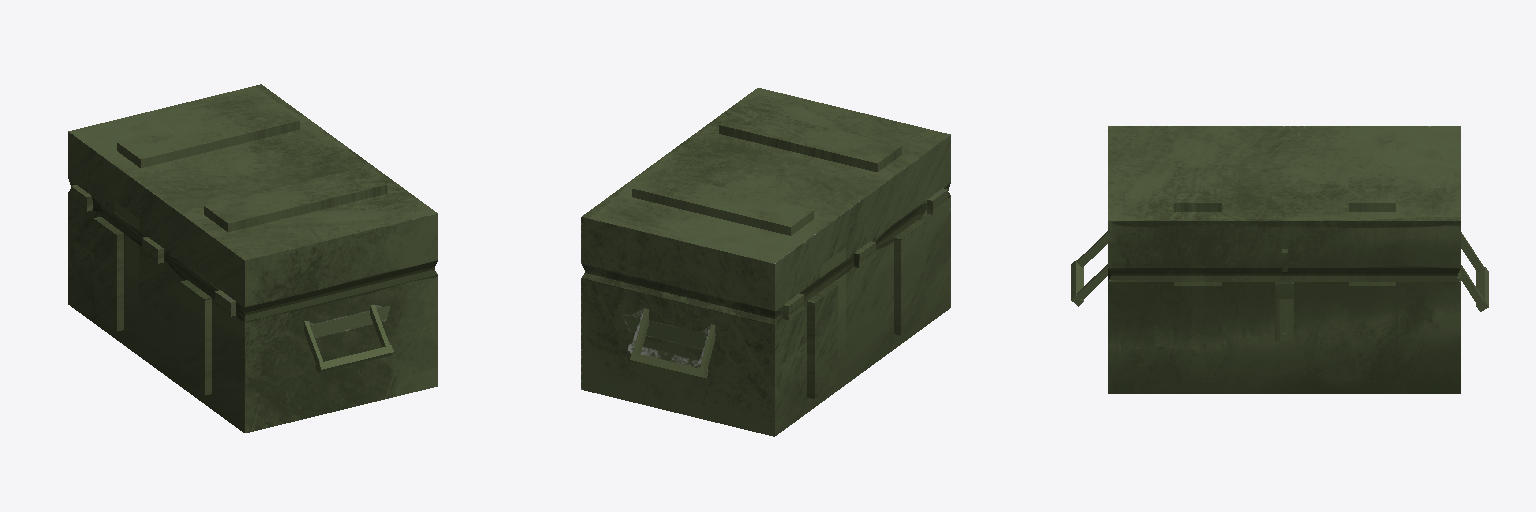
3 views of the same model, side by side, from view 1: azimuth 30°, elevation 25°; view 2: azimuth 150°, elevation 25°; view 3: azimuth 270°, elevation 25° (orthographic).
Parts seen in each view (by area): view 1: Cube_Cube.028_None, Handle2.002_Cube.029_Material.001; view 2: Cube_Cube.028_None, Handle1.002_Cube.031_Material.001; view 3: Cube_Cube.028_None, Handle2.002_Cube.029_Material.001, Handle1.002_Cube.031_Material.001.
Part boxes in pixels (bbox=[...]): Cube_Cube.028_None: bbox=[68, 84, 437, 432]; Handle2.002_Cube.029_Material.001: bbox=[304, 305, 393, 372]; Cube_Cube.028_None: bbox=[581, 88, 950, 436]; Handle1.002_Cube.031_Material.001: bbox=[630, 309, 714, 378]; Cube_Cube.028_None: bbox=[1108, 126, 1460, 393]; Handle2.002_Cube.029_Material.001: bbox=[1071, 231, 1107, 306]; Handle1.002_Cube.031_Material.001: bbox=[1461, 232, 1488, 311].
Bounding box in the file's own units: 0.5337 × 0.4439 × 0.9242.
2 materials, 2 textured.